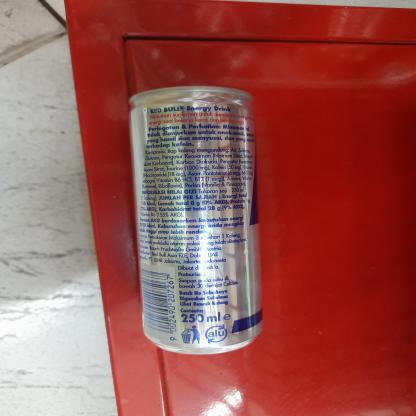bottle: (126, 81, 268, 358)
